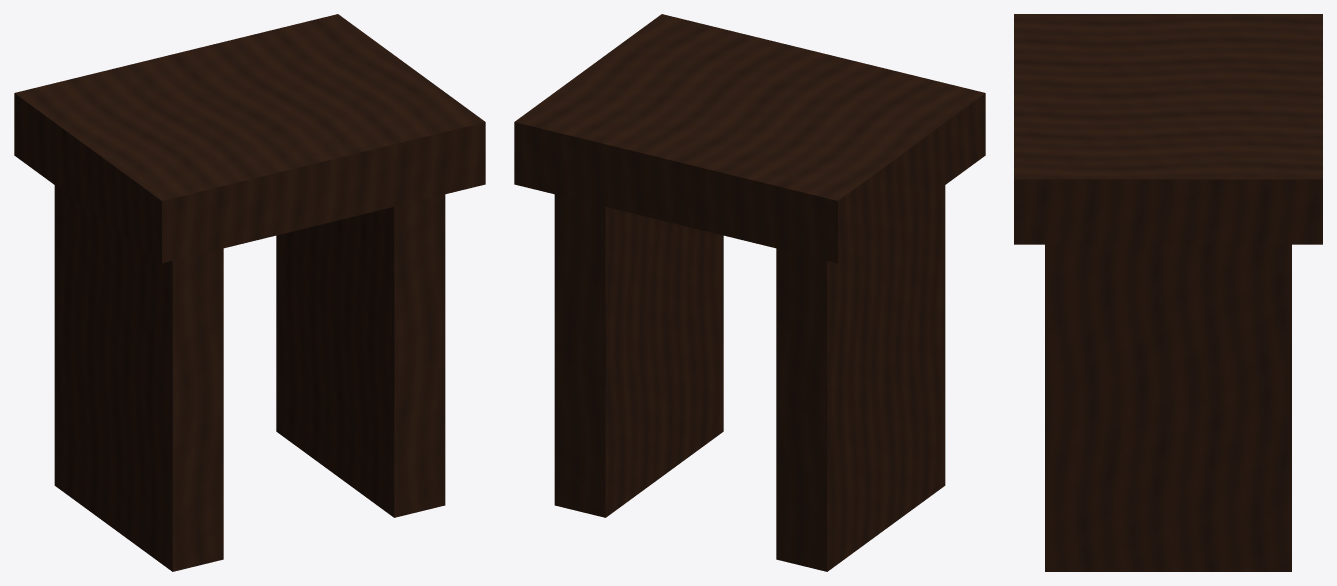
File: module_stool.glb
3 renders of one model, left to right at view 1: azimuth 30°, elevation 25°; view 2: azimuth 150°, elevation 25°; view 3: azimuth 270°, elevation 25°, orthographic. The views are drawn at different scales.
Visible parts, largest first — view 1: seat, leg_l, leg_r; view 2: seat, leg_l, leg_r; view 3: leg_r, seat.
Boxes of the visible parts, x1,y1,x2,y2 form: seat: [14, 14, 485, 263]; leg_l: [54, 185, 223, 571]; leg_r: [276, 194, 445, 517]; seat: [514, 14, 985, 263]; leg_l: [776, 185, 945, 571]; leg_r: [554, 194, 723, 517]; leg_r: [1045, 244, 1291, 571]; seat: [1014, 14, 1322, 244].
Bounding box in the file's own units: 0.38 × 0.435 × 0.3.
1 material, 1 textured.
